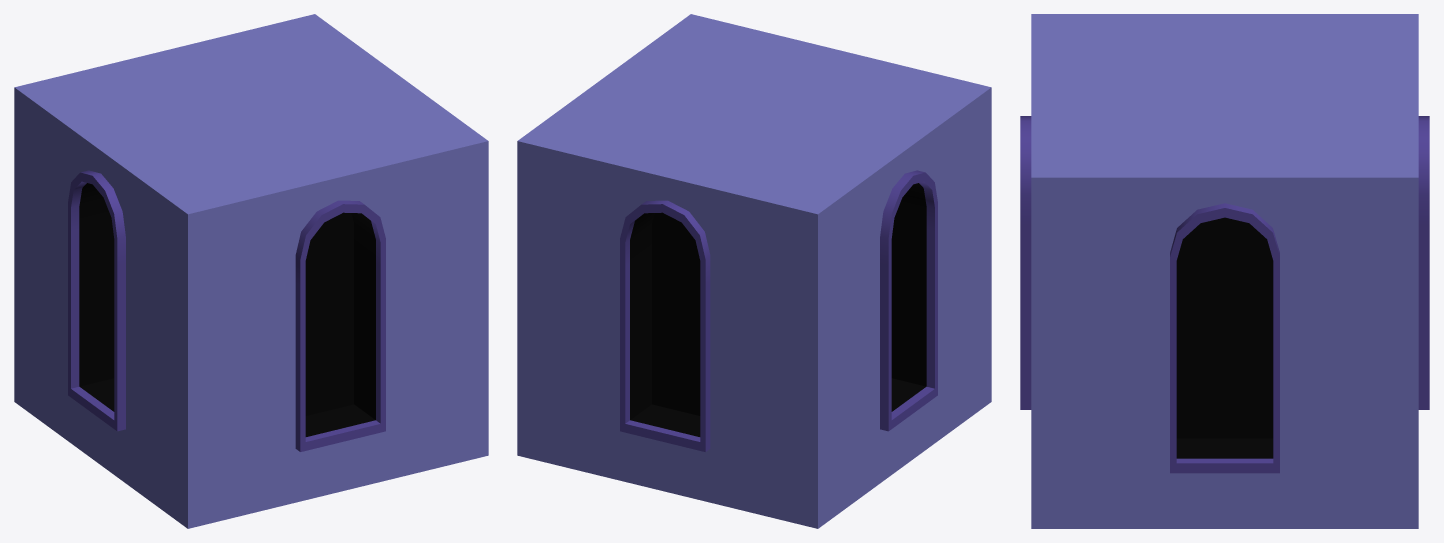
File: WallFloor_017.fbx
3 views of the same model, side by side, from view 1: azimuth 30°, elevation 25°; view 2: azimuth 150°, elevation 25°; view 3: azimuth 270°, elevation 25° (orthographic). The views are drawn at different scales.
Parts seen in each view (by area): view 1: WallFloor.017; view 2: WallFloor.017; view 3: WallFloor.017.
Boxes of the visible parts, <box> form: WallFloor.017: <box>14,14,488,528</box>; WallFloor.017: <box>517,14,991,528</box>; WallFloor.017: <box>1020,14,1429,528</box>.
Size of the model in its own units: 211 by 211 by 200.
